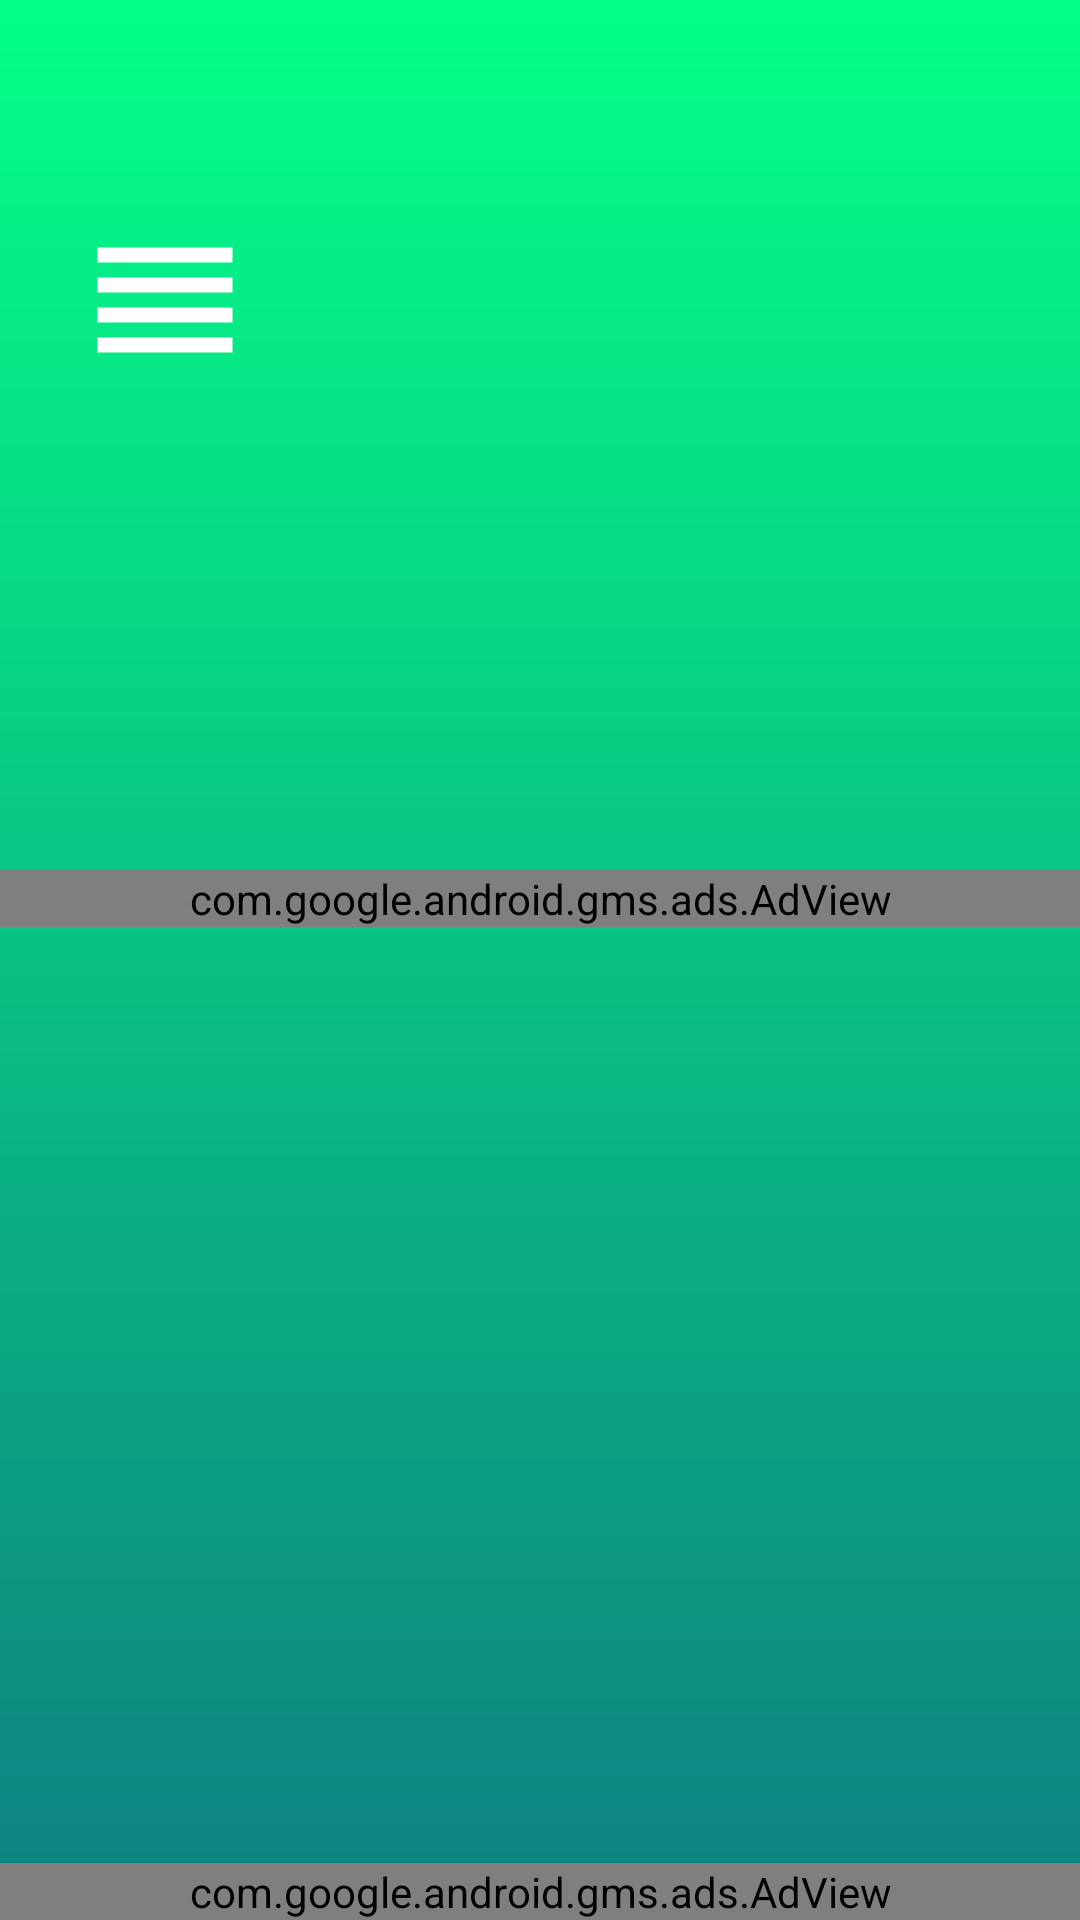

Named icons in this screenshot (1080px x 1920px) and their centers, point (x, y):
reorder: point (165, 300)
